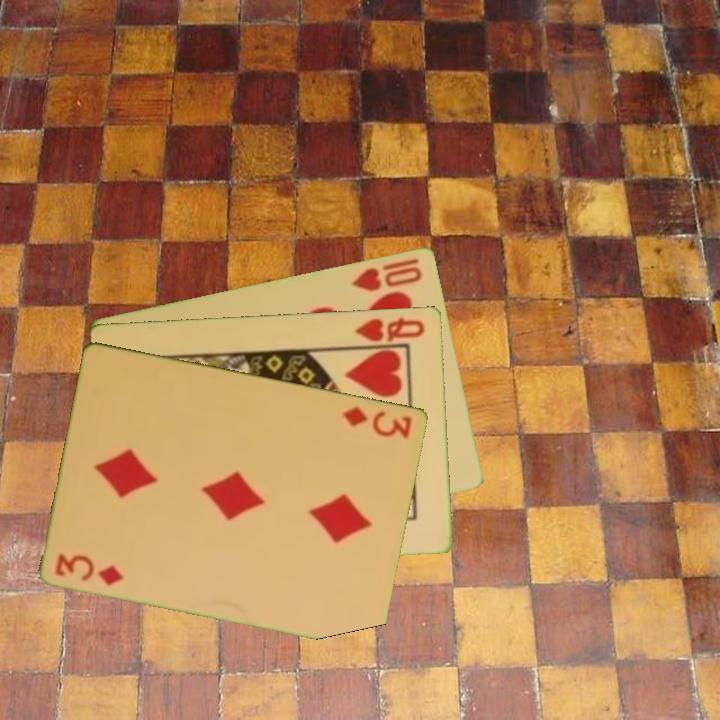10h: (348, 254, 426, 294)
3d: (339, 402, 415, 441), (52, 550, 128, 588)
Qh: (352, 313, 428, 344)
